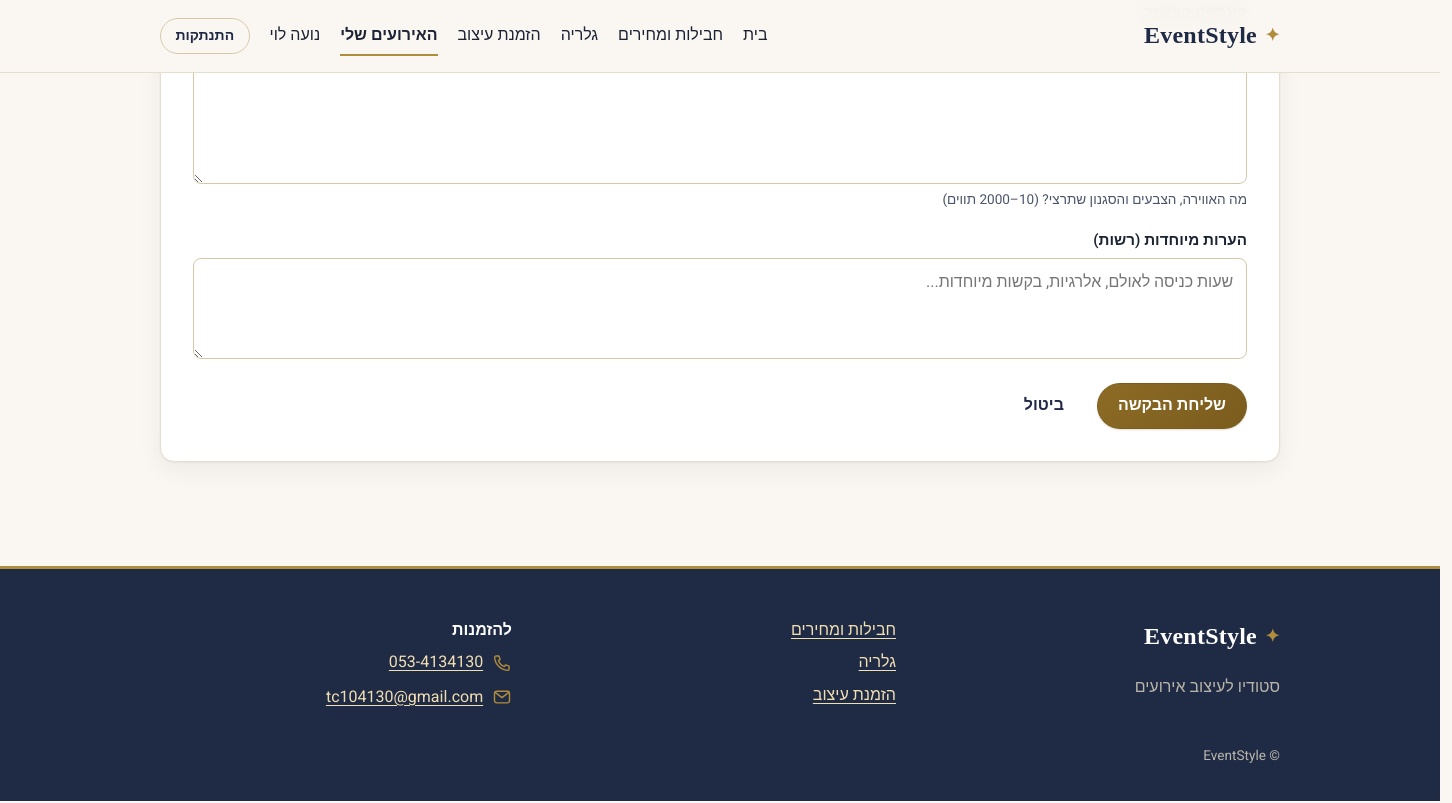
Client: sending a design request › validates the form in the browser – nothing is sent
(page scrolled)
Click the button "שליחת הבקשה". click: (1172, 406)
box: [1097,383,1247,429]
(page scrolled)
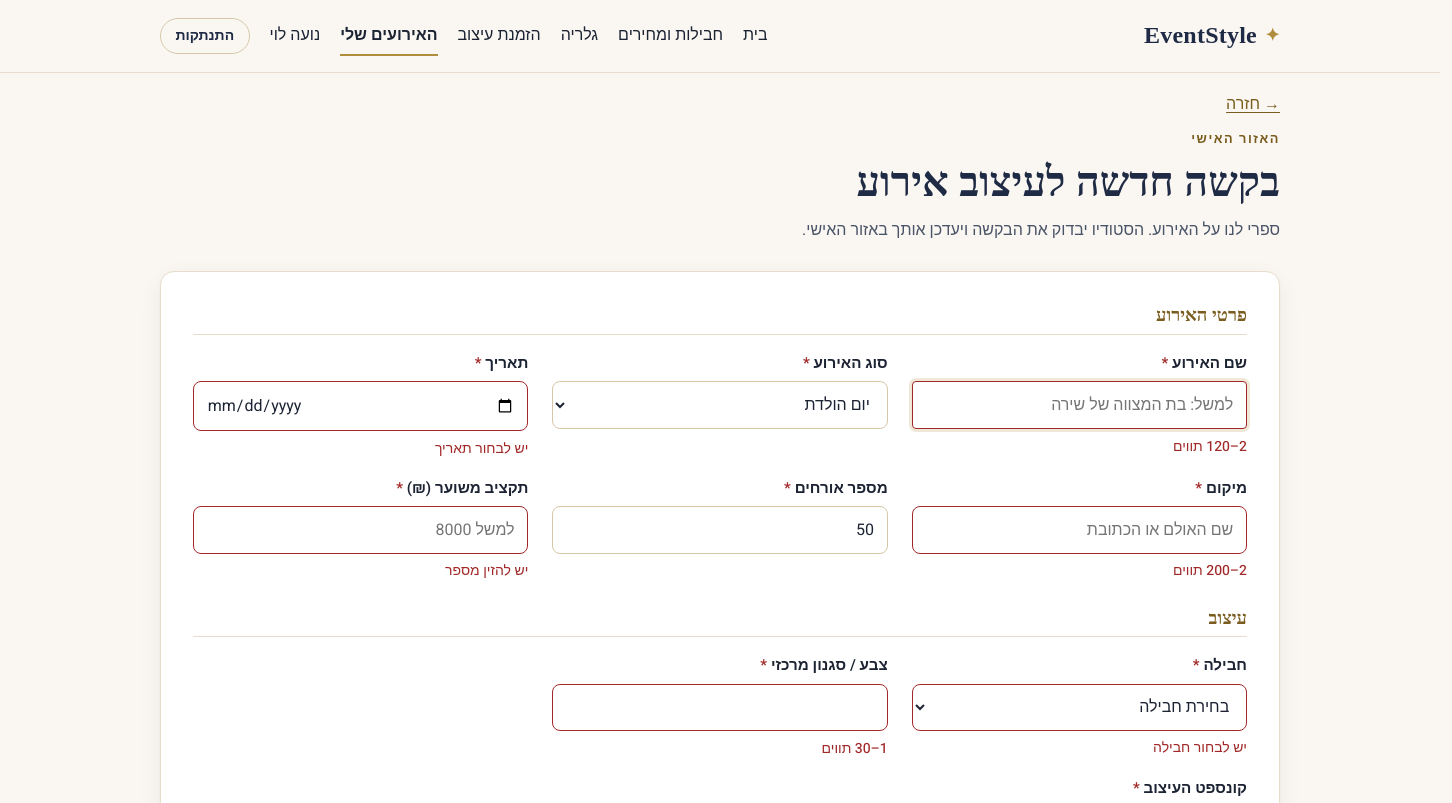
Result: the text "יש לבחור תאריך" is shown at [435,438,528,458]
Result: the text "יש לבחור חבילה" is shown at [1153,737,1247,758]
Result: the text "יש להזין מספר" is shown at [445,560,528,581]
